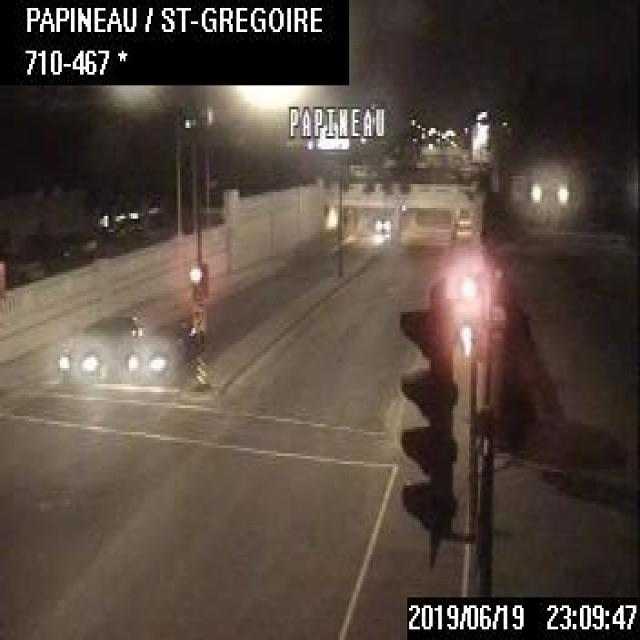vehicle: (54, 314, 140, 387), (124, 320, 198, 383), (371, 213, 391, 232)
